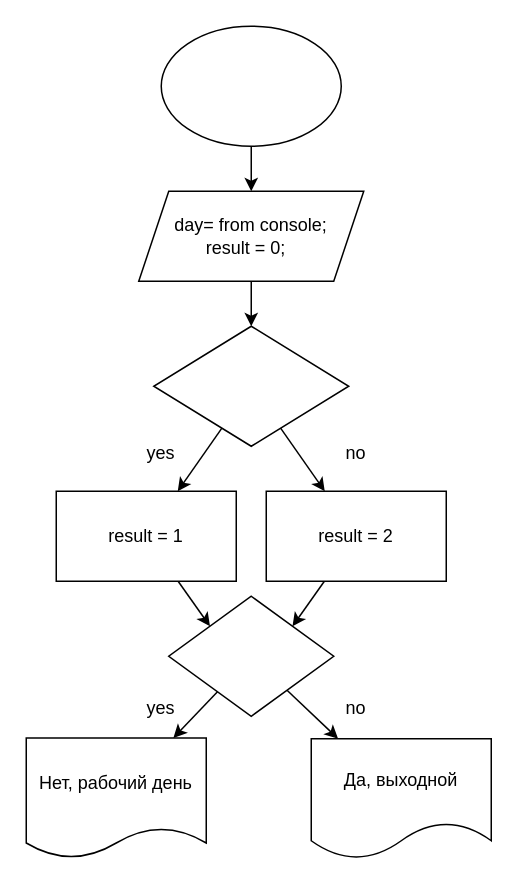
The diagram is 518 pixels wide and 885 high, and some of its shapes have lost their labels. The shapes that lost their labels are listed below. From the top down, each one's centre as x and y in pixels, then its label:
At (250,85): "start".
At (250,385): "day <=5".
At (250,655): "result == 1".
